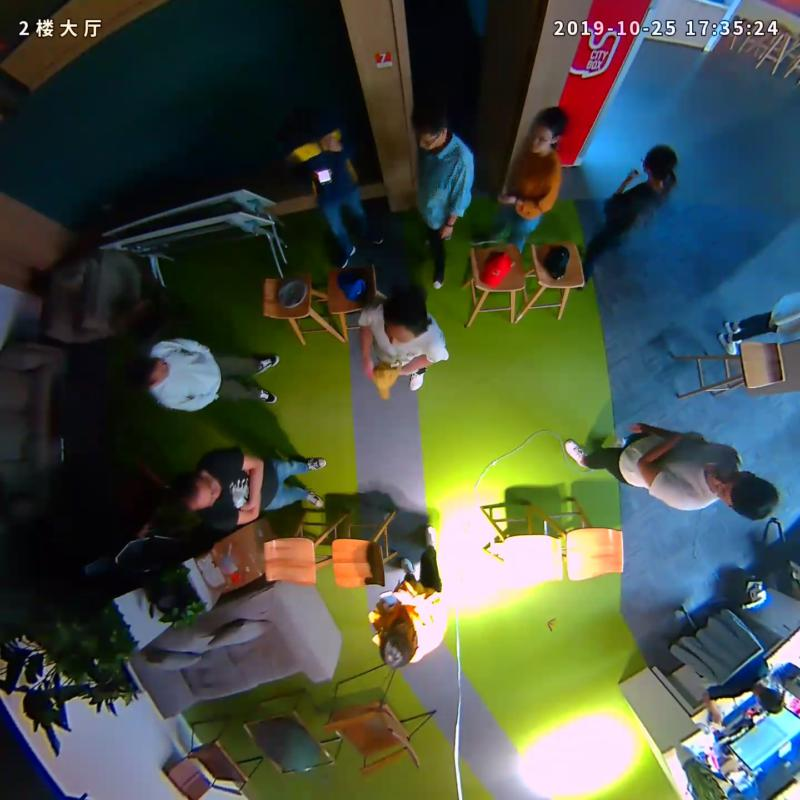head: (709, 468, 781, 520), (383, 282, 429, 346), (170, 468, 222, 511), (524, 106, 567, 157), (379, 620, 418, 669), (410, 104, 448, 151), (283, 106, 324, 148), (124, 354, 170, 391), (638, 143, 677, 185)
